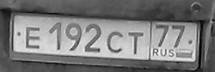license-plateSW: (11, 12, 198, 64)
